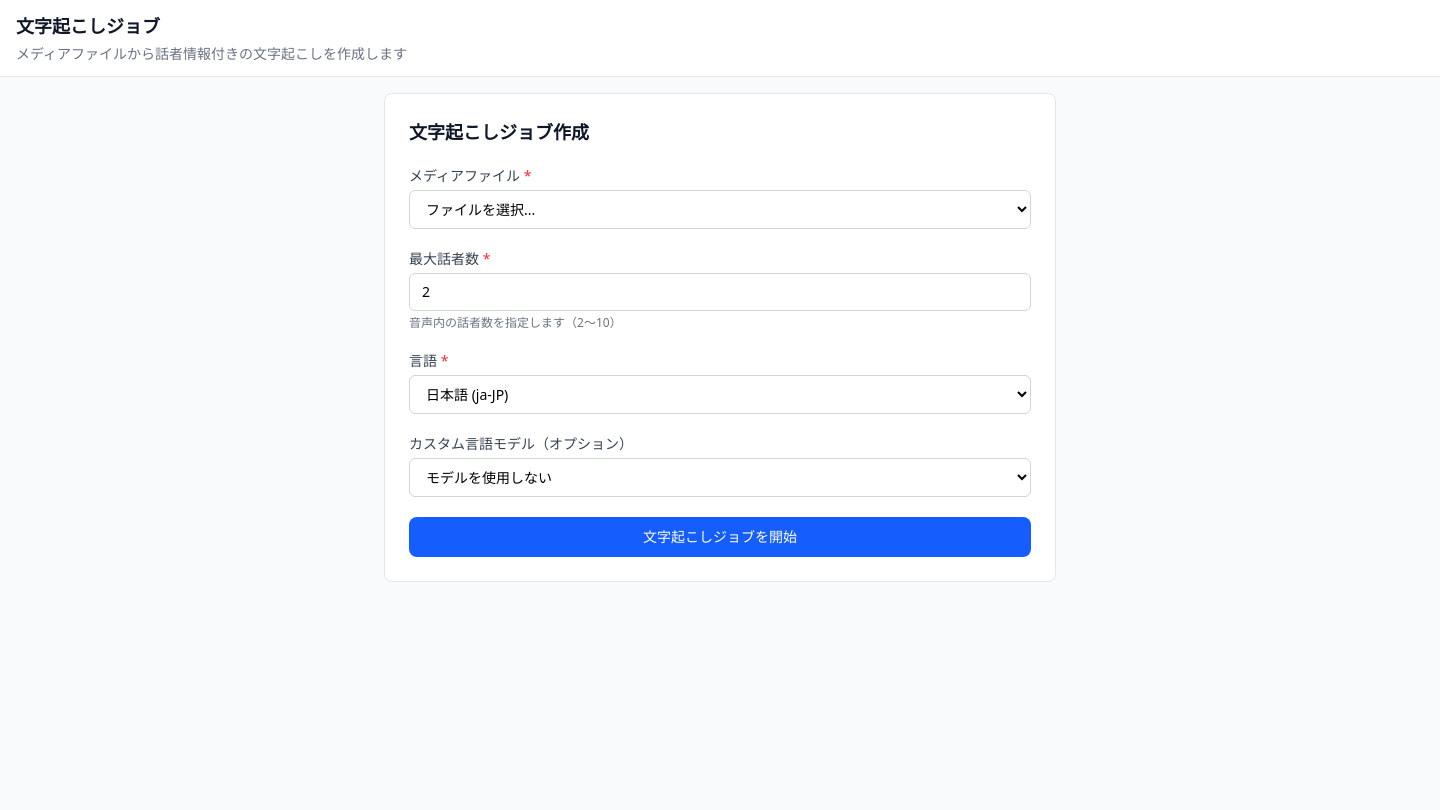
Test: TranscriptionJobPage › job creation flow › shows JobStatusPoller after job is started
Check: the form named "Transcription ジョブ作成フォーム" is shown, box x1=384 y1=93 x2=1056 y2=582
Select media file and submit
Select "会議録音.mp3" in the dropdown labelled "メディアファイル *" at (720, 210), box x1=409 y1=190 x2=1031 y2=229
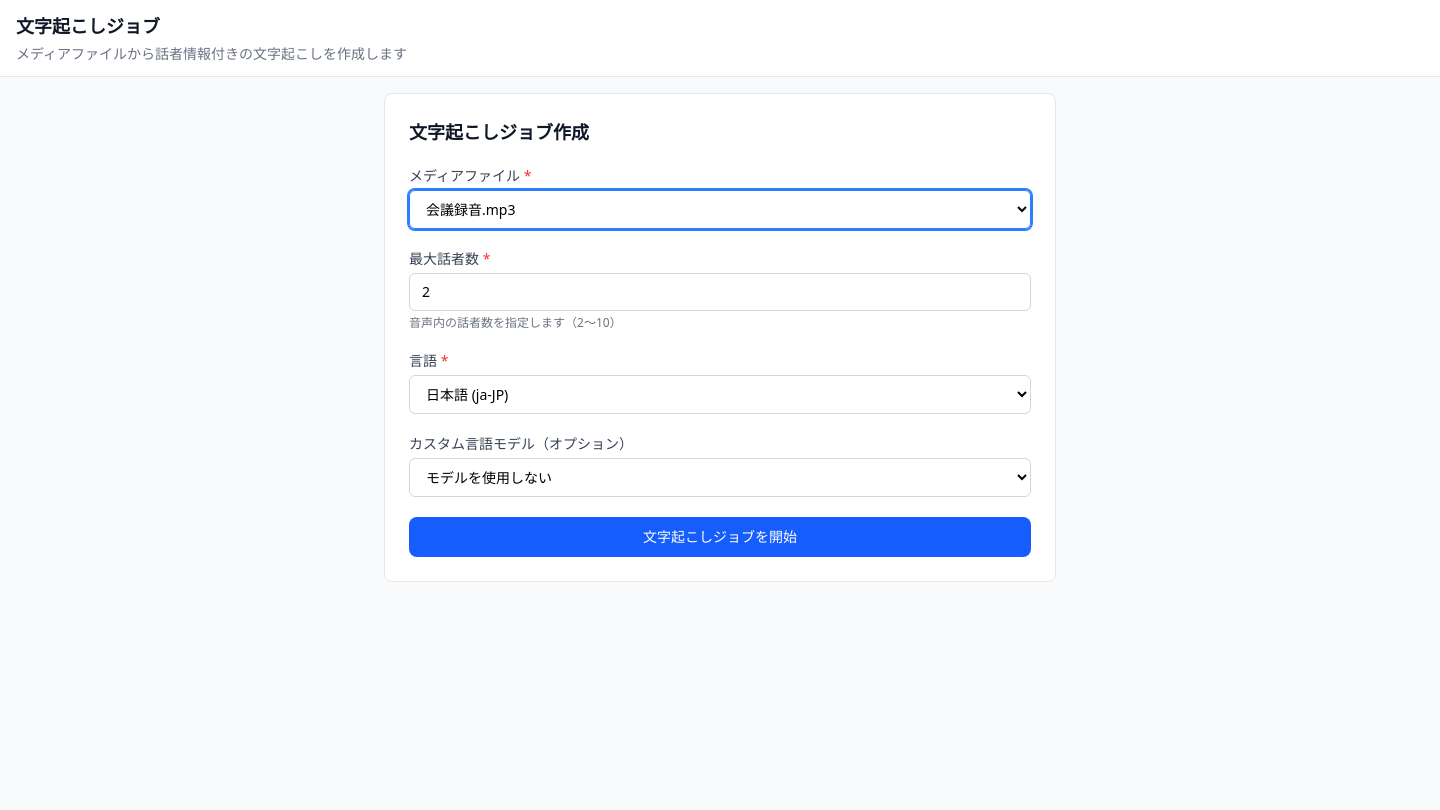
Click the button "文字起こしジョブを開始".
click(720, 537)  # box x1=409 y1=517 x2=1031 y2=557
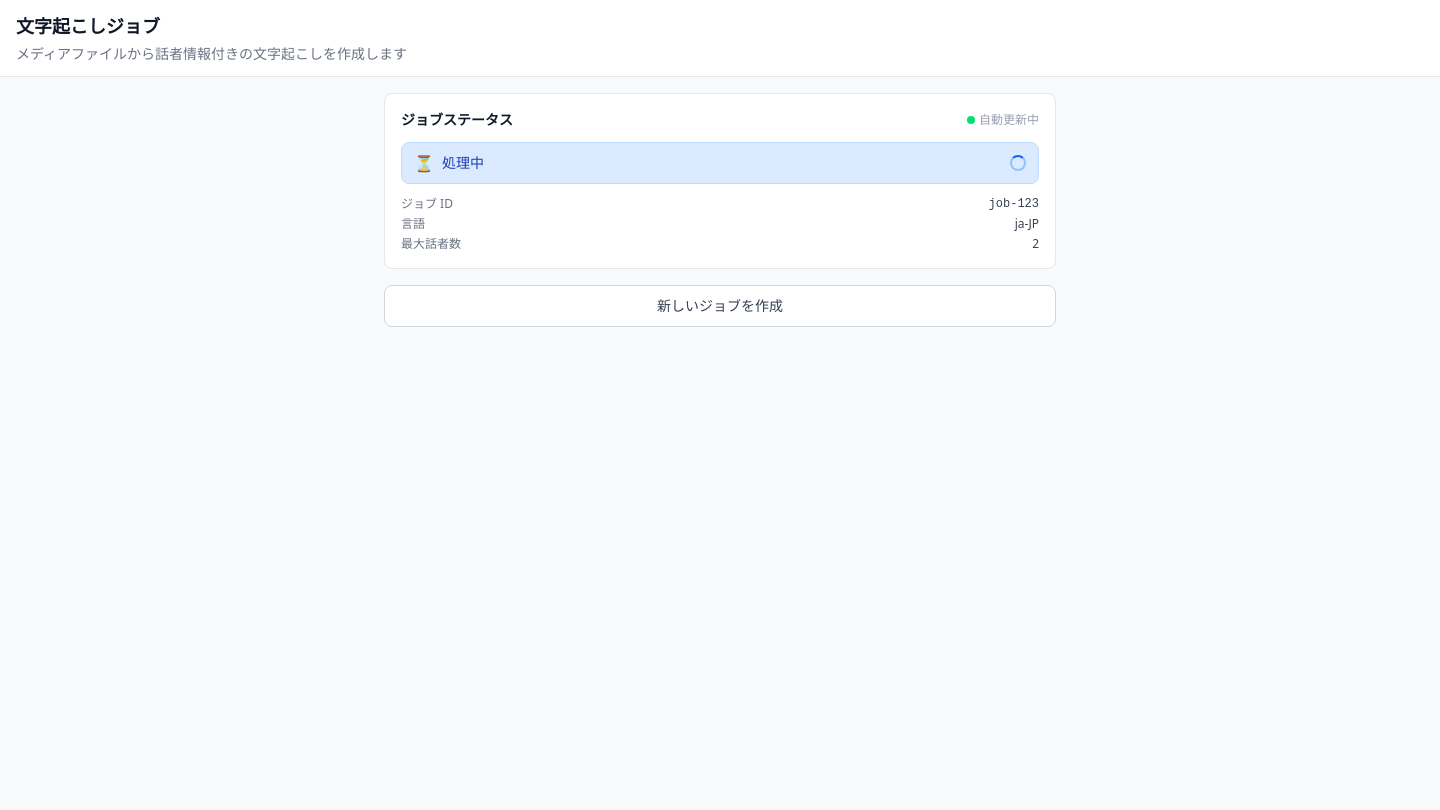
Check: the element labelled "ジョブステータス" is shown, box x1=384 y1=93 x2=1056 y2=269
